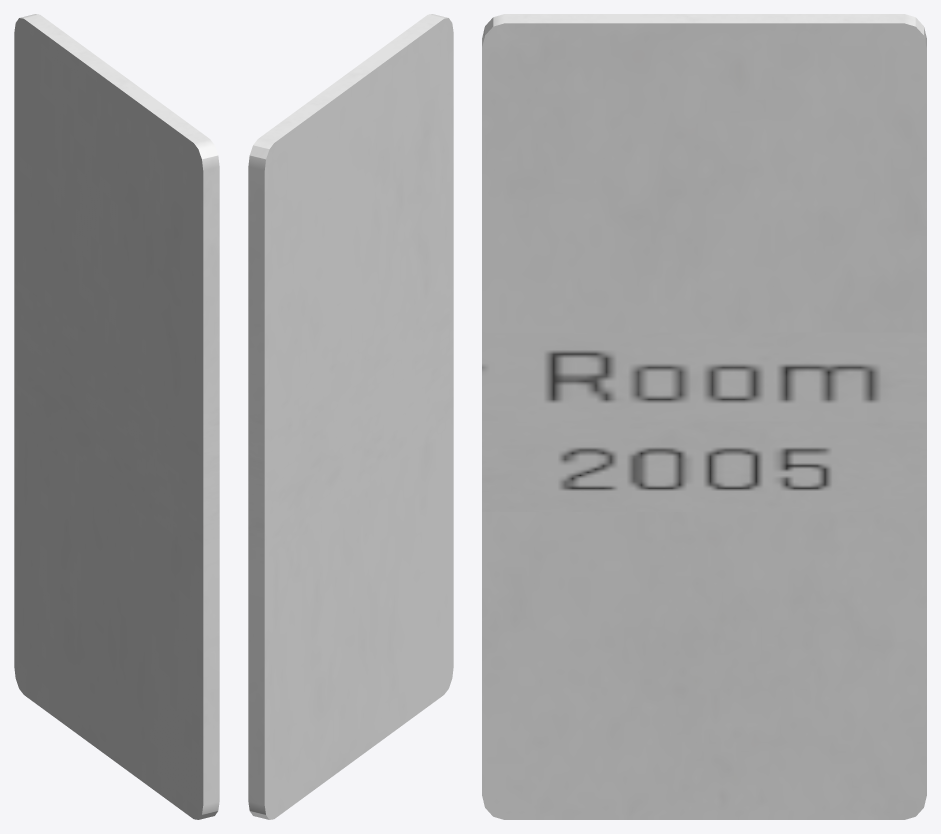
3 renders of one model, left to right at view 1: azimuth 30°, elevation 25°; view 2: azimuth 150°, elevation 25°; view 3: azimuth 270°, elevation 25°, orthographic. The views are drawn at different scales.
Visible parts, largest first — view 1: pCube26; view 2: pCube26; view 3: pCube26.
Part boxes in pixels (x1,y1,x2,y2): pCube26: (14,14,219,819); pCube26: (248,14,453,819); pCube26: (482,14,926,819).
Bounding box in the file's own units: 0.0309 × 1.22 × 0.6162.
1 material, 1 textured.
